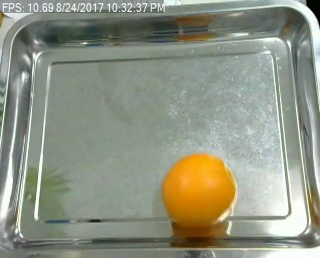Orange: (162, 153, 238, 230)
